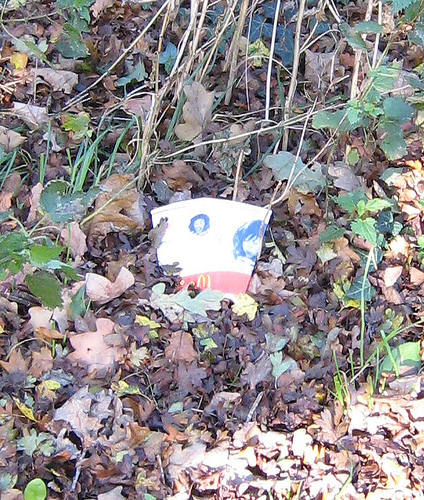litter: (150, 197, 274, 292)
